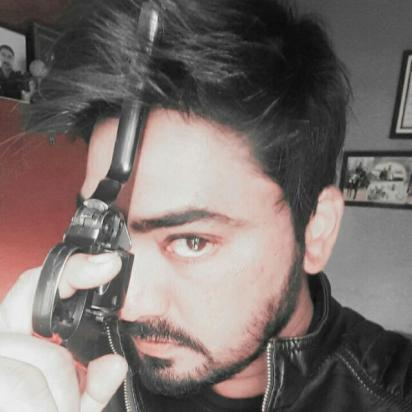Gun: (3, 0, 170, 411)
